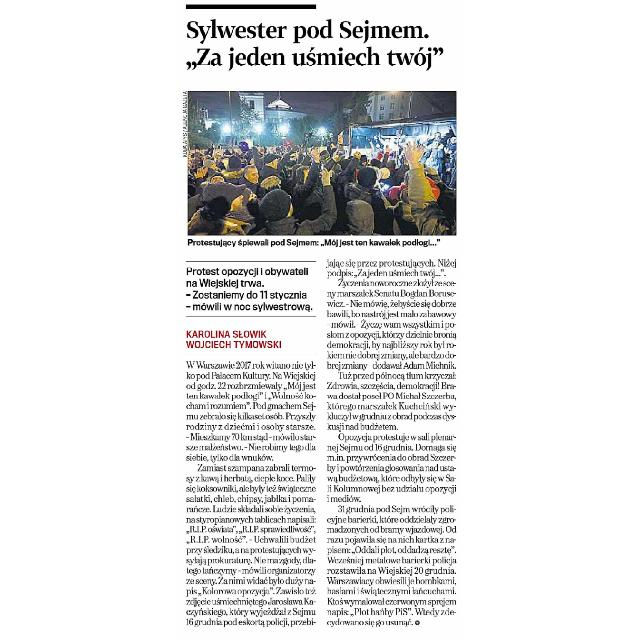author: (184, 326, 290, 352)
body: (322, 256, 460, 630), (183, 357, 321, 629)
caption: (185, 238, 445, 248)
image: (186, 89, 458, 237)
lead: (182, 264, 316, 314)
title: (182, 12, 454, 74)
